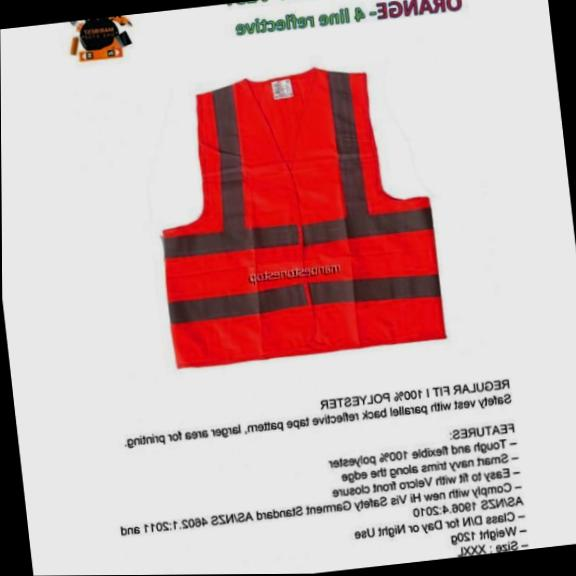safety_vest: (142, 55, 448, 372)
